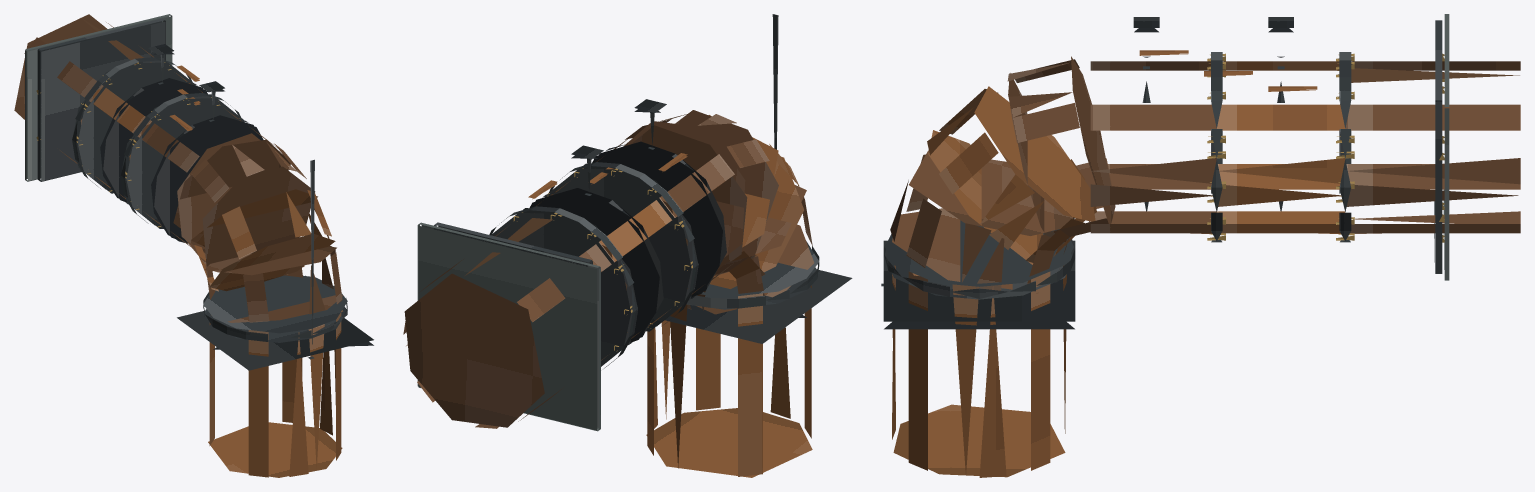
File: sewer_outflow_pipe.glb
3 renders of one model, left to right at view 1: azimuth 30°, elevation 25°; view 2: azimuth 150°, elevation 25°; view 3: azimuth 270°, elevation 25°, orthographic. The views are drawn at different scales.
Visible parts, largest first — view 1: Drop, Elbow0, WallFlange, DropFlange, Elbow1, FlangeB, FlangeA, Elbow2, Strap1, DropBand, Barrel2, Strap0 (+4 smaller); view 2: Barrel0, Drop, WallPlate, FlangeB, FlangeA, Elbow0, Strap1, Strap0, Barrel2, Elbow1, DropBand, DropFlange (+4 smaller); view 3: Drop, Barrel0, Elbow1, Barrel1, Barrel2, Elbow2, Elbow0, DropBand, DropFlange, WallFlange, FlangeA, FlangeB (+1 smaller).
Part boxes in pixels (box(x1,y1,x2,y2)): Drop: box(208, 310, 342, 477); Elbow0: box(173, 139, 315, 272); WallFlange: box(37, 18, 165, 181); DropFlange: box(203, 275, 347, 342); Elbow1: box(191, 189, 335, 291); FlangeB: box(120, 93, 244, 228); FlangeA: box(72, 57, 195, 193); Elbow2: box(204, 246, 343, 322); Strap1: box(151, 115, 263, 243); DropBand: box(177, 311, 373, 370); Barrel2: box(129, 108, 276, 252); Strap0: box(100, 78, 207, 203); Barrel0: box(403, 218, 627, 428); Drop: box(646, 285, 812, 477); WallPlate: box(417, 222, 600, 431); FlangeB: box(545, 162, 698, 331); FlangeA: box(489, 206, 637, 368); Elbow0: box(623, 110, 778, 275); Strap1: box(592, 141, 726, 298); Strap0: box(529, 188, 663, 344); Barrel2: box(596, 125, 747, 294); Elbow1: box(708, 115, 803, 288); DropBand: box(665, 270, 852, 343); DropFlange: box(686, 241, 819, 309); Drop: box(892, 265, 1066, 477); Barrel0: box(1345, 61, 1520, 233); Elbow1: box(927, 86, 1096, 264); Barrel1: box(1217, 61, 1345, 233); Barrel2: box(1090, 61, 1216, 233); Elbow2: box(890, 150, 1074, 293); Elbow0: box(1007, 56, 1115, 237); DropBand: box(883, 240, 1075, 329); DropFlange: box(883, 220, 1075, 299); WallFlange: box(1434, 20, 1442, 273); FlangeA: box(1339, 52, 1351, 242); FlangeB: box(1211, 52, 1222, 242).
Size of the model in its own units: 1.9 by 3.95 by 5.47.
Materials: 3 (3 with a texture image).
